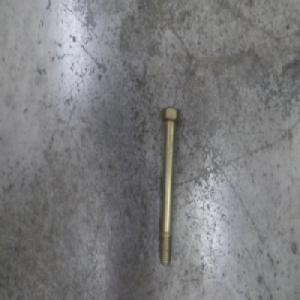Bolt: (159, 104, 180, 268)
